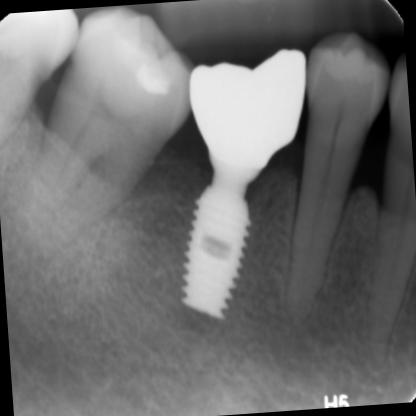Bicon: (176, 161, 275, 327)
